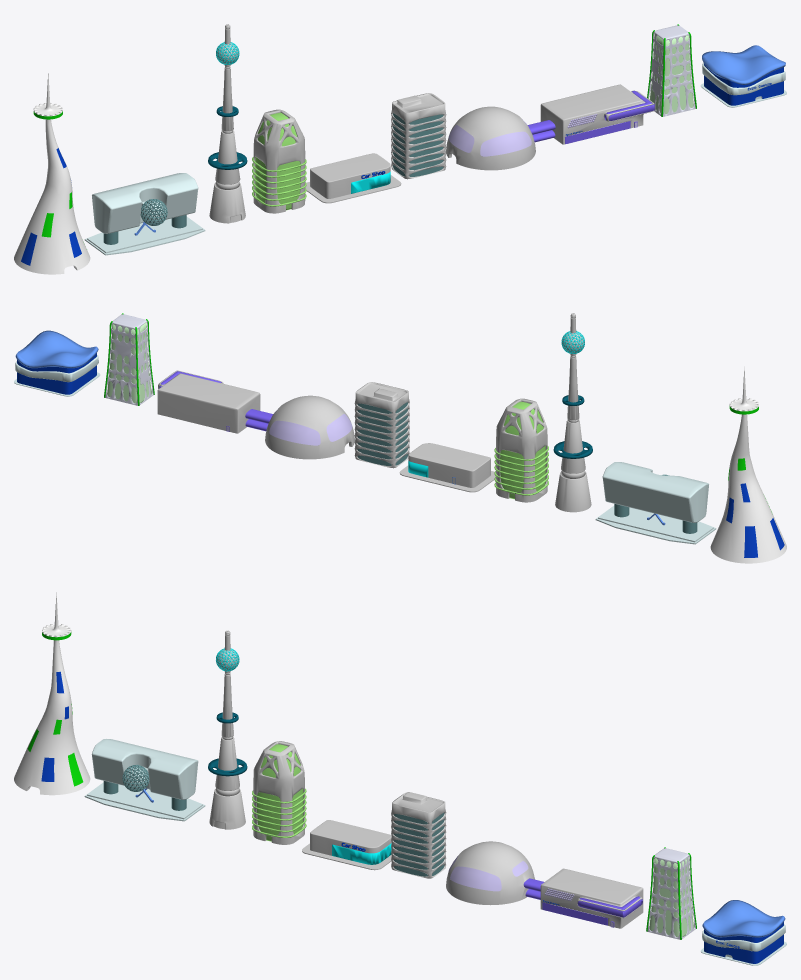
File: FrutigerAeroBuildings_Low.fbx
3 views of the same model, one above another, from view 1: azimuth 30°, elevation 25°; view 2: azimuth 150°, elevation 25°; view 3: azimuth 330°, elevation 25° (orthographic).
Visible parts, largest first — view 1: fa_museum, fa_tower1_body, fa_building0, fa_building1, fa_tower_body0, fa_building2_frame0, fa_building3_window0, fa_shop0, fa_expo_centre_roof, fa_building1_glass, fa_building3_wall0, fa_building2_glass (+14 smaller); view 2: fa_museum, fa_tower1_body, fa_building0, fa_building1, fa_tower_body0, fa_building3_window0, fa_building2_frame0, fa_shop0, fa_building3_wall0, fa_expo_centre_roof, fa_building1_glass, fa_building3_ground1 (+10 smaller); view 3: fa_museum, fa_tower1_body, fa_building0, fa_building1, fa_tower_body0, fa_building2_frame0, fa_building3_window0, fa_expo_centre_roof, fa_building1_glass, fa_building3_wall0, fa_shop0, fa_building2_glass (+7 smaller).
Boxes of the visible parts, bbox=[...] form: fa_museum: bbox=[446, 84, 654, 170]; fa_tower1_body: bbox=[14, 73, 90, 274]; fa_building0: bbox=[253, 109, 305, 213]; fa_building1: bbox=[391, 93, 446, 179]; fa_tower_body0: bbox=[209, 24, 245, 223]; fa_building2_frame0: bbox=[648, 25, 695, 116]; fa_building3_window0: bbox=[92, 188, 197, 232]; fa_shop0: bbox=[310, 153, 390, 198]; fa_expo_centre_roof: bbox=[702, 45, 785, 84]; fa_building1_glass: bbox=[393, 113, 443, 176]; fa_building3_wall0: bbox=[92, 173, 198, 233]; fa_building2_glass: bbox=[649, 34, 693, 114]; fa_museum: bbox=[157, 370, 354, 459]; fa_tower1_body: bbox=[710, 366, 786, 563]; fa_building0: bbox=[496, 398, 547, 502]; fa_building1: bbox=[354, 382, 409, 468]; fa_tower_body0: bbox=[555, 313, 591, 512]; fa_building3_window0: bbox=[603, 470, 708, 521]; fa_building2_frame0: bbox=[105, 314, 153, 405]; fa_shop0: bbox=[408, 443, 490, 487]; fa_building3_wall0: bbox=[602, 462, 708, 522]; fa_expo_centre_roof: bbox=[15, 330, 98, 368]; fa_building1_glass: bbox=[357, 402, 407, 465]; fa_building3_ground1: bbox=[598, 506, 713, 542]; fa_museum: bbox=[446, 841, 643, 928]; fa_tower1_body: bbox=[14, 592, 90, 795]; fa_building0: bbox=[253, 741, 304, 844]; fa_building1: bbox=[391, 792, 446, 878]; fa_tower_body0: bbox=[209, 630, 245, 829]; fa_building2_frame0: bbox=[647, 848, 695, 939]; fa_building3_window0: bbox=[92, 754, 198, 798]; fa_expo_centre_roof: bbox=[702, 900, 785, 937]; fa_building1_glass: bbox=[393, 812, 444, 876]; fa_building3_wall0: bbox=[91, 739, 198, 799]; fa_shop0: bbox=[310, 820, 391, 855]; fa_building2_glass: bbox=[649, 857, 693, 936].
Size of the model in its own units: 73197 by 18638 by 7560.
Materials: 3 (3 with a texture image).
